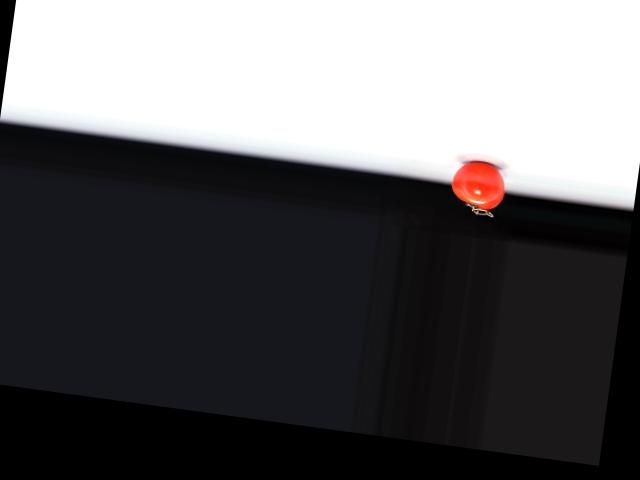tomato: (448, 158, 507, 211)
